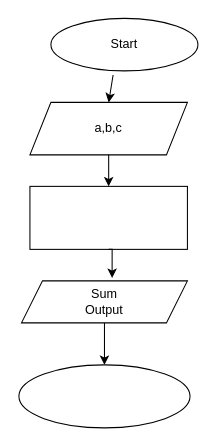
Image size: 216x446. Some labels were removed from this diagram. The shapes that lost their labels are listed below. From the top down, each one's centre as x and y in pixels, then its label:
At (x=108, y=217): "Sum = a + b + c".
At (x=104, y=396): "End".
